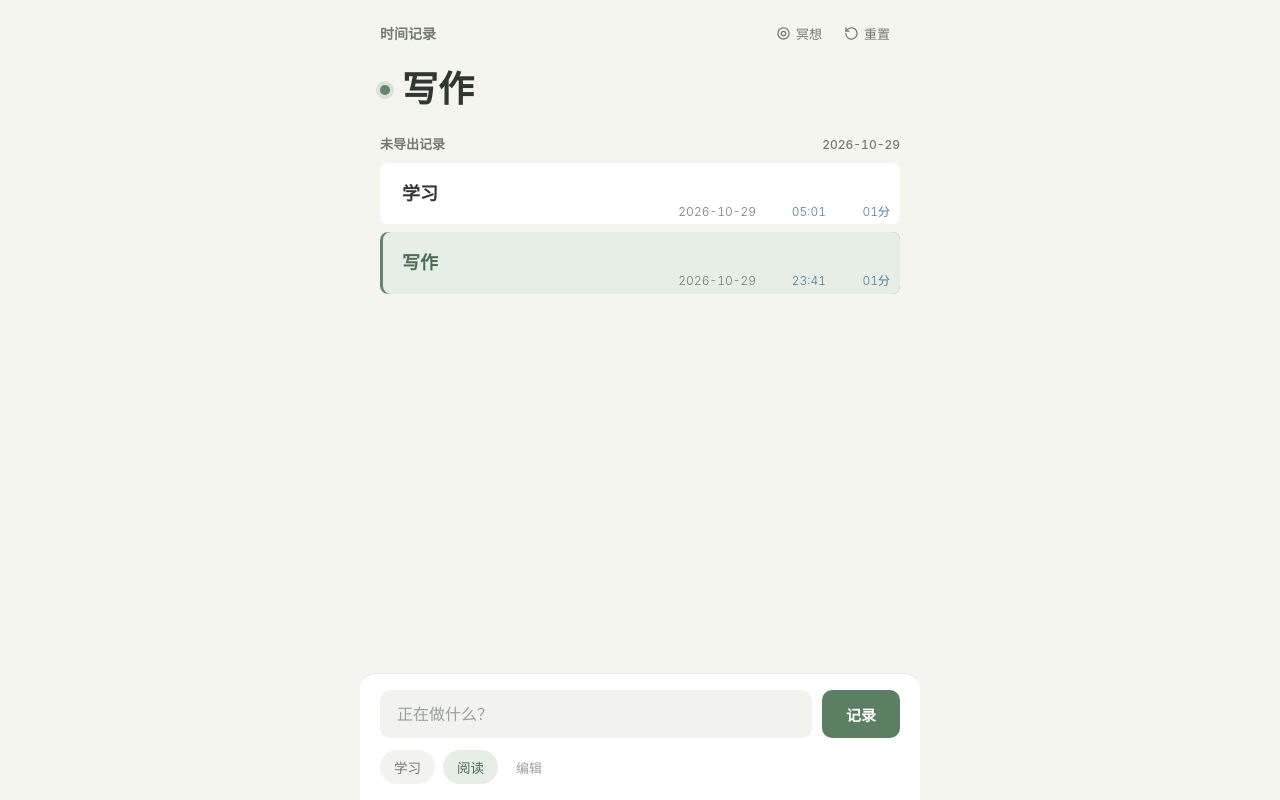
it: 时间记录界面 › 左滑修改记录，保存后同步活动名称和起止时间
The image size is (1280, 800).
Press the mouse on the element with class "row-surface" showing "学习 2026-10-29 05:01 01分" at point(640, 193), box [380, 163, 900, 224]
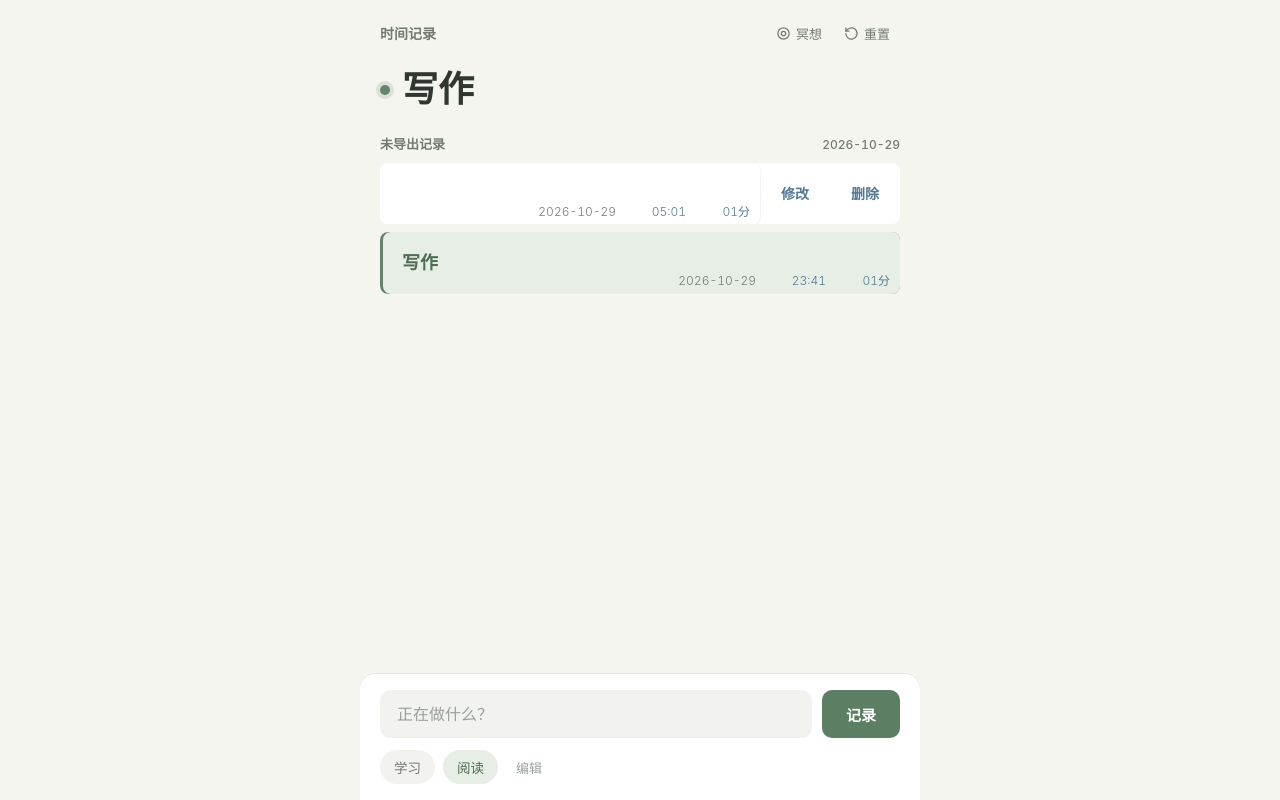
Click the button labelled "修改" at point(795, 193), box [760, 163, 830, 224]
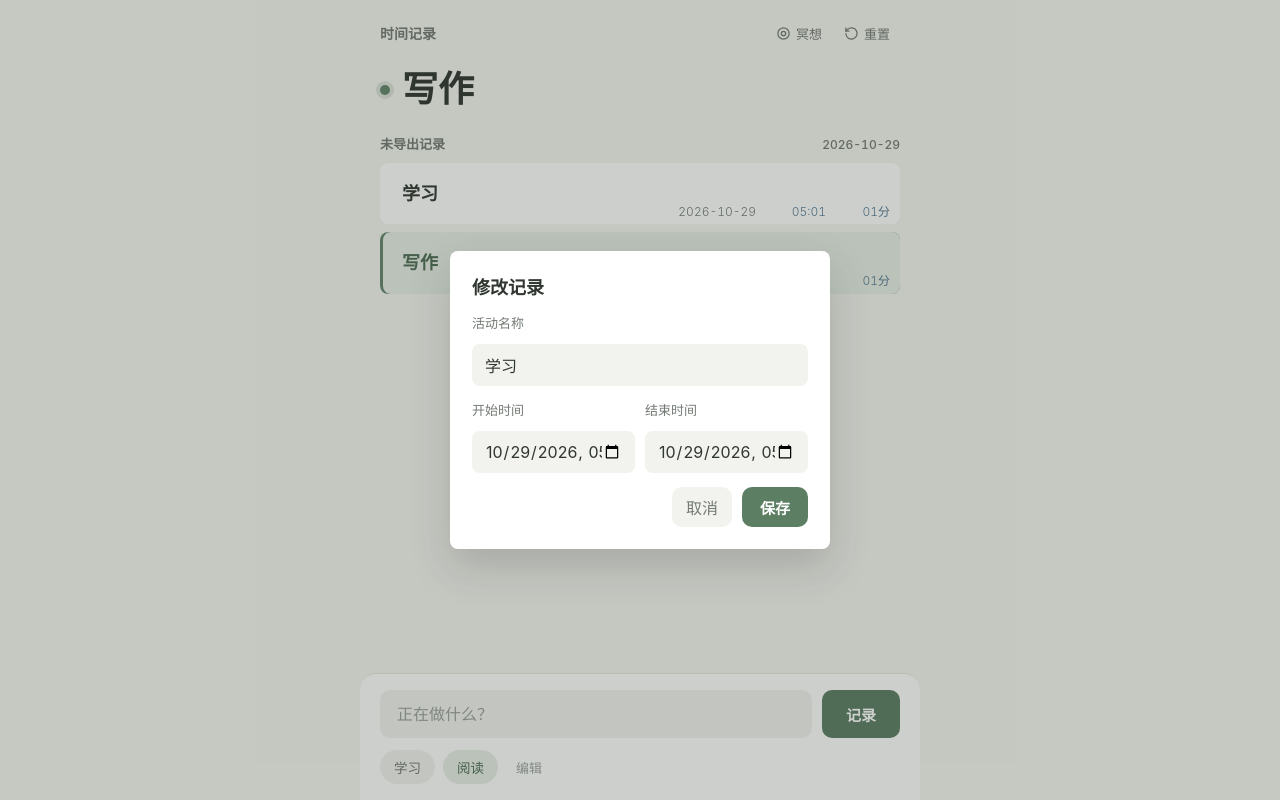
Expected: the dialog "修改记录" is shown, [450, 251, 830, 549]
Replace the text in the field named "修改活动名称" with "改后的学习" at point(640, 365), box [472, 344, 808, 386]
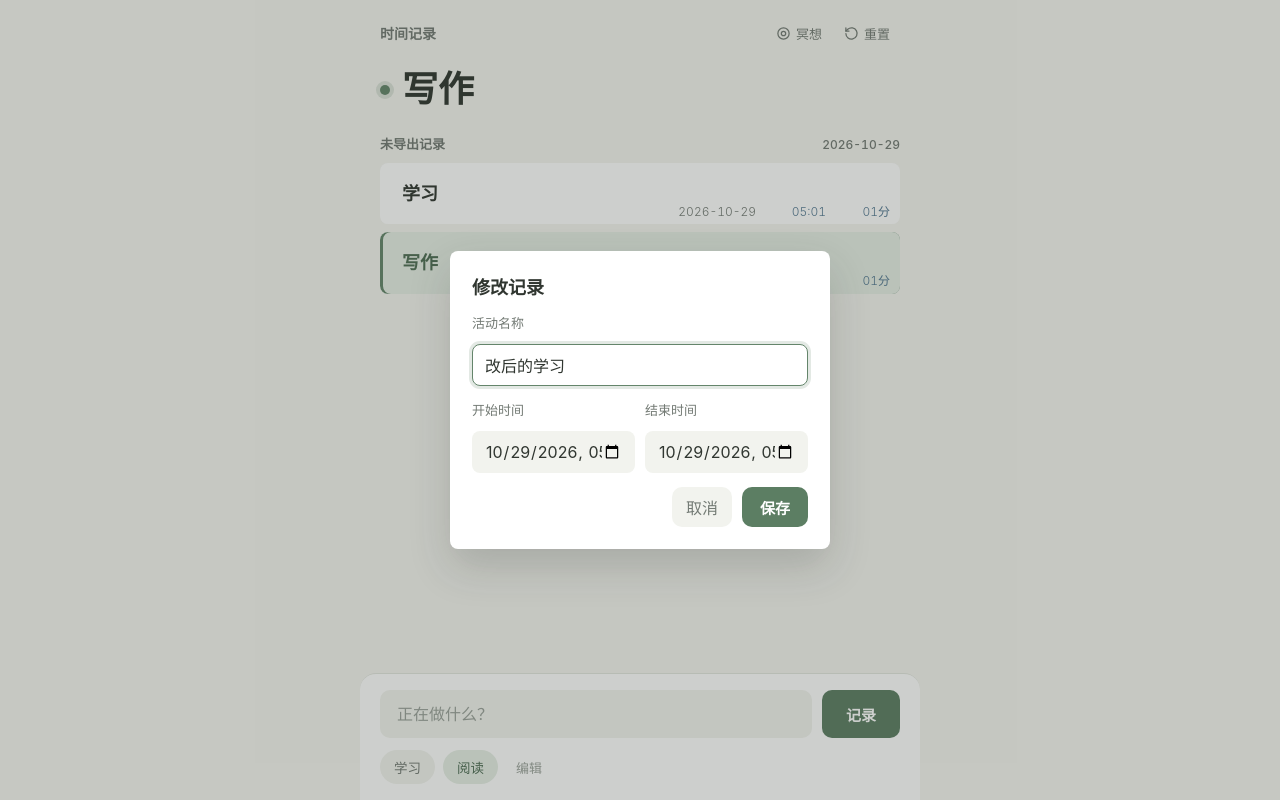
Replace the text in the field labelled "开始时间" with "2026-01-01T08:00" at point(554, 452), box [472, 431, 635, 473]
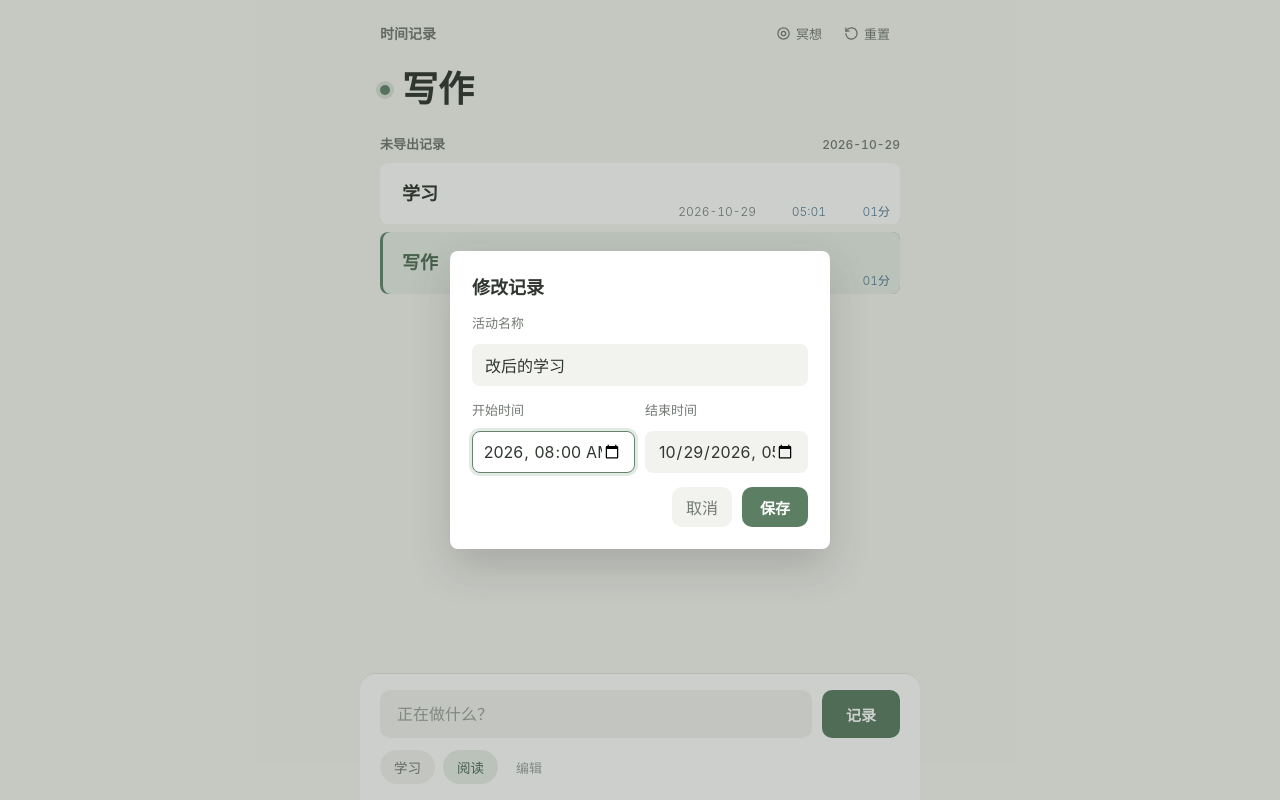
Replace the text in the field labelled "结束时间" with "2026-01-01T09:30" at point(726, 452), box [645, 431, 808, 473]
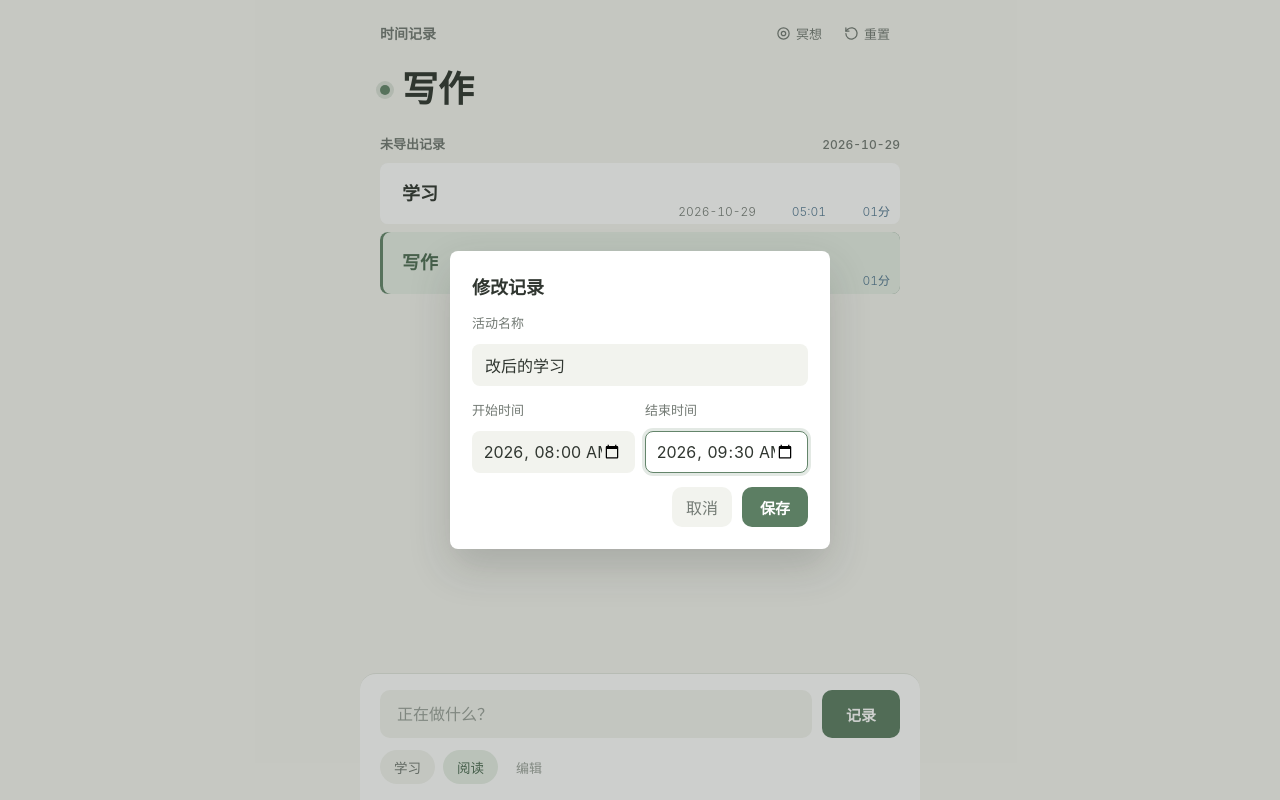
Click the button "保存" at point(775, 507), box [742, 487, 808, 527]
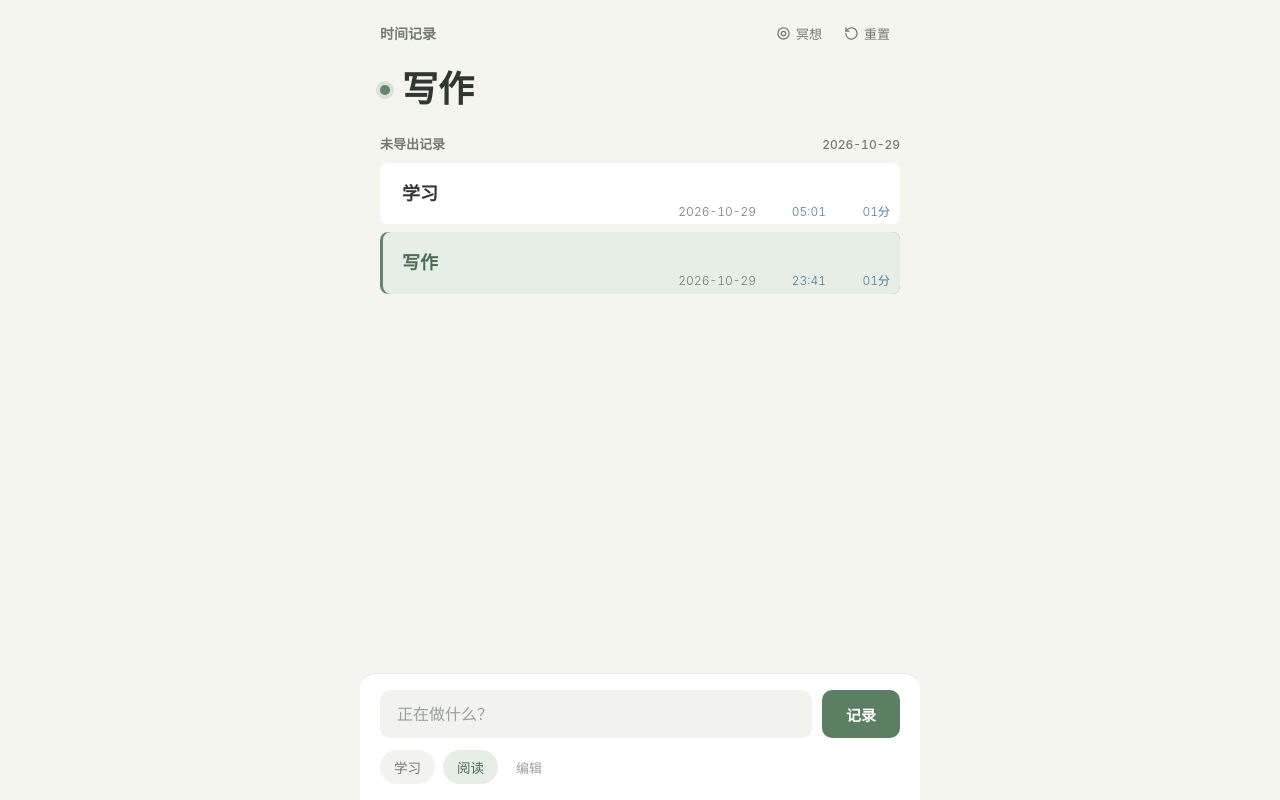
Expected: the dialog is gone
